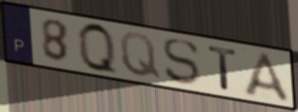8: (39, 18, 71, 63)
A: (241, 50, 295, 106)
Q: (75, 20, 122, 79), (117, 30, 163, 81)
S: (161, 38, 202, 87)
T: (207, 44, 240, 93)
